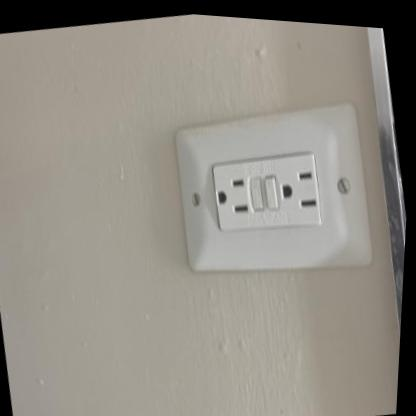OUTLET: (161, 90, 383, 298)
